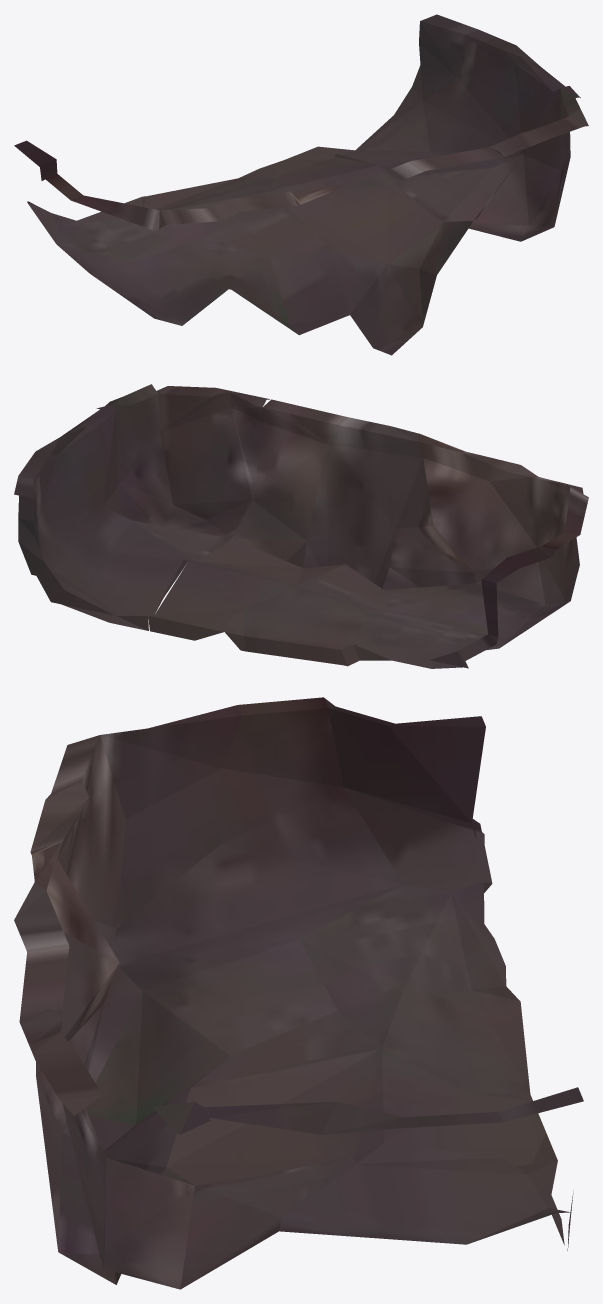
The picture shows the model from 3 angles, top to bottom: view 1: azimuth 30°, elevation 25°; view 2: azimuth 150°, elevation 25°; view 3: azimuth 270°, elevation 25°; orthographic projection. The views are drawn at different scales.
Visible parts, largest first — view 1: Mesh_0; view 2: Mesh_0; view 3: Mesh_0.
Boxes of the visible parts, box(x1,y1,x2,y2) form: Mesh_0: box(14, 14, 588, 355); Mesh_0: box(14, 384, 588, 668); Mesh_0: box(14, 697, 583, 1289).
Bounding box in the file's own units: 16.42 × 6.12 × 9.47.
Materials: 1 (1 with a texture image).
